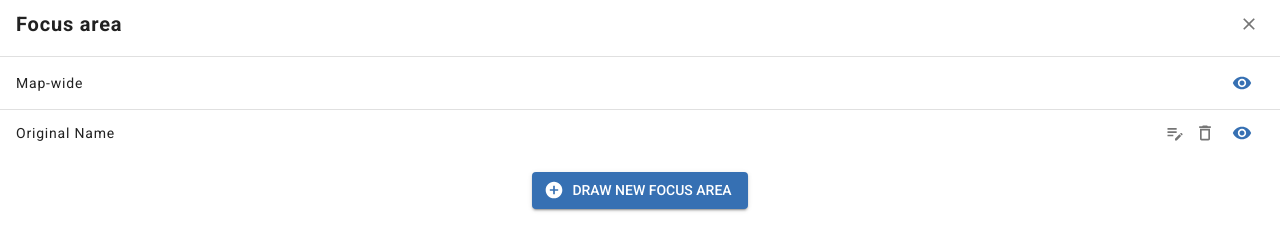
FocusAreaView › Focus Area Actions › clears error when user types after validation error
Expected: the text "Original Name" is shown, [16,125,115,141]
Click the button named "Edit focus area name" at coordinates (1175, 133), box [1160,118,1190,148]
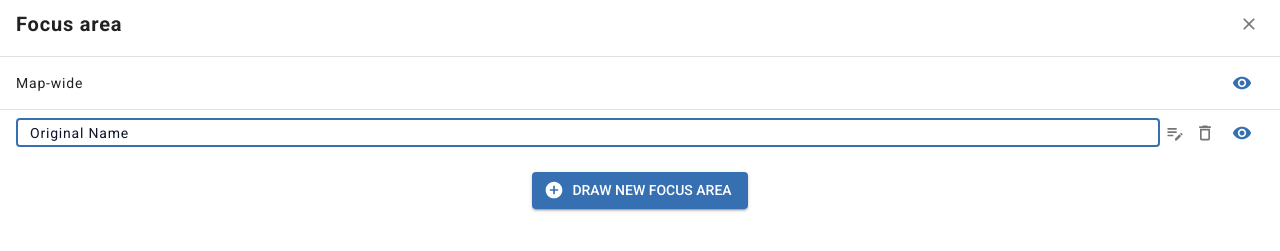
Clear the field showing "Original Name" at coordinates (588, 133), box [16,119,1160,147]
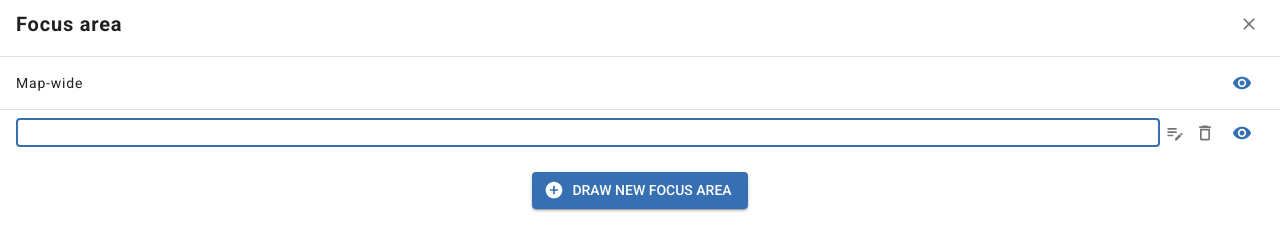
Leave the field showing "Original Name", box [16,119,1160,147]
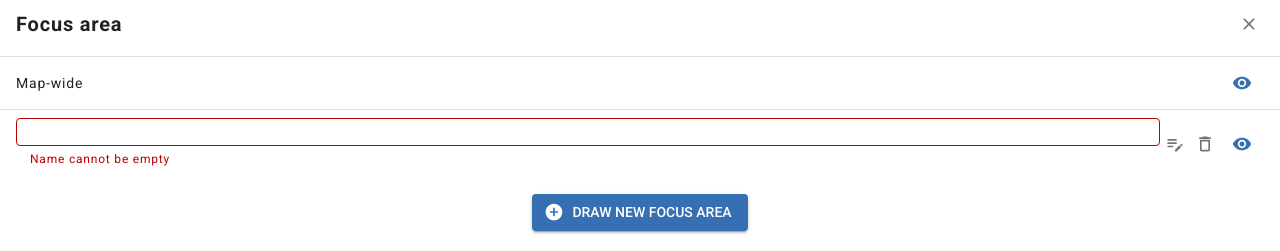
Result: the text "Name cannot be empty" is shown at [30,152,170,166]
Type "N" into the field showing "Original Name" at coordinates (588, 132), box [16,118,1160,146]
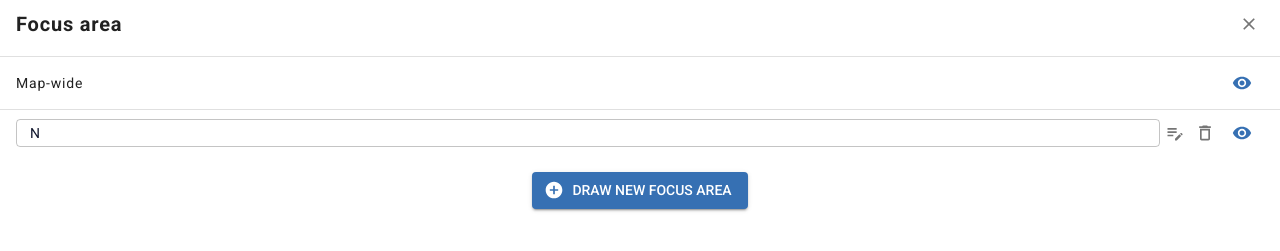
Result: the text "Name cannot be empty" is gone
